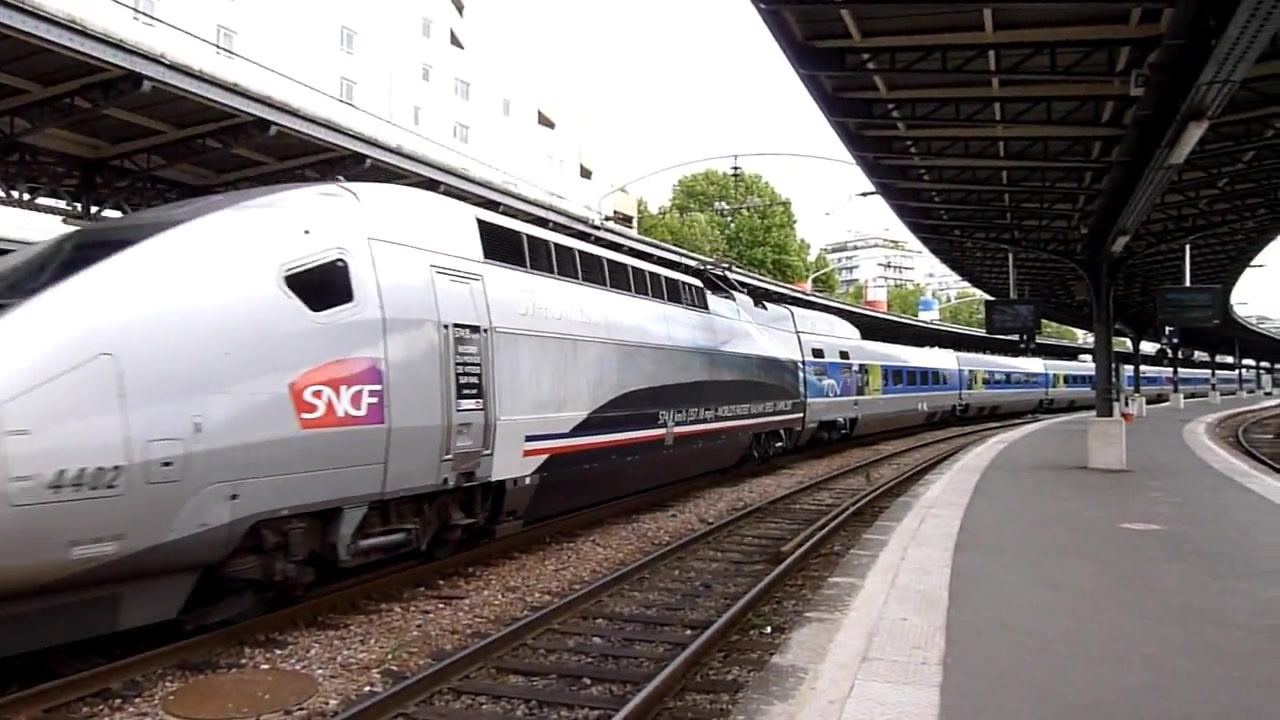train: (1, 174, 1253, 645)
